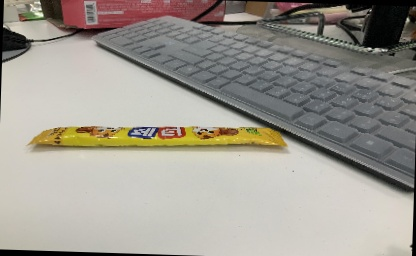jt: (25, 116, 290, 159)
